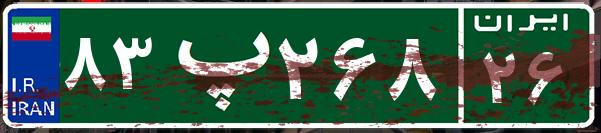2: (273, 28, 330, 110), (475, 38, 525, 113)
3: (110, 28, 158, 105)
6: (330, 28, 385, 110), (525, 38, 570, 115)
8: (385, 28, 445, 110), (57, 26, 110, 107)
پ: (158, 15, 273, 115)
